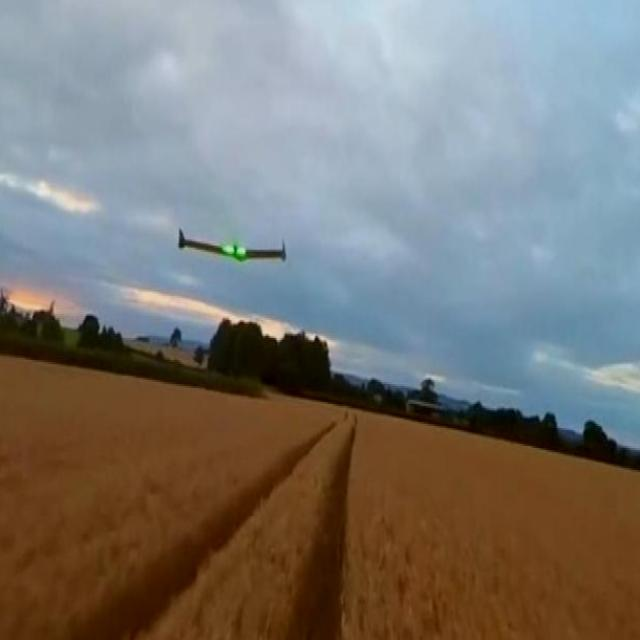plane: (176, 227, 286, 264)
